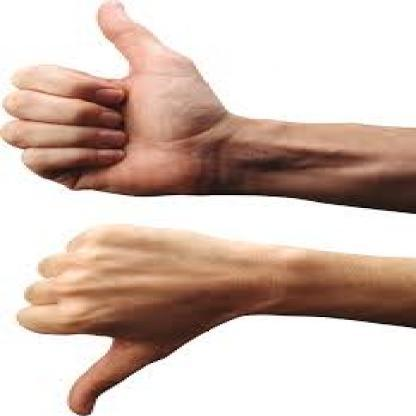thumb_down: (11, 217, 275, 416)
thumb_up: (0, 0, 246, 198)
